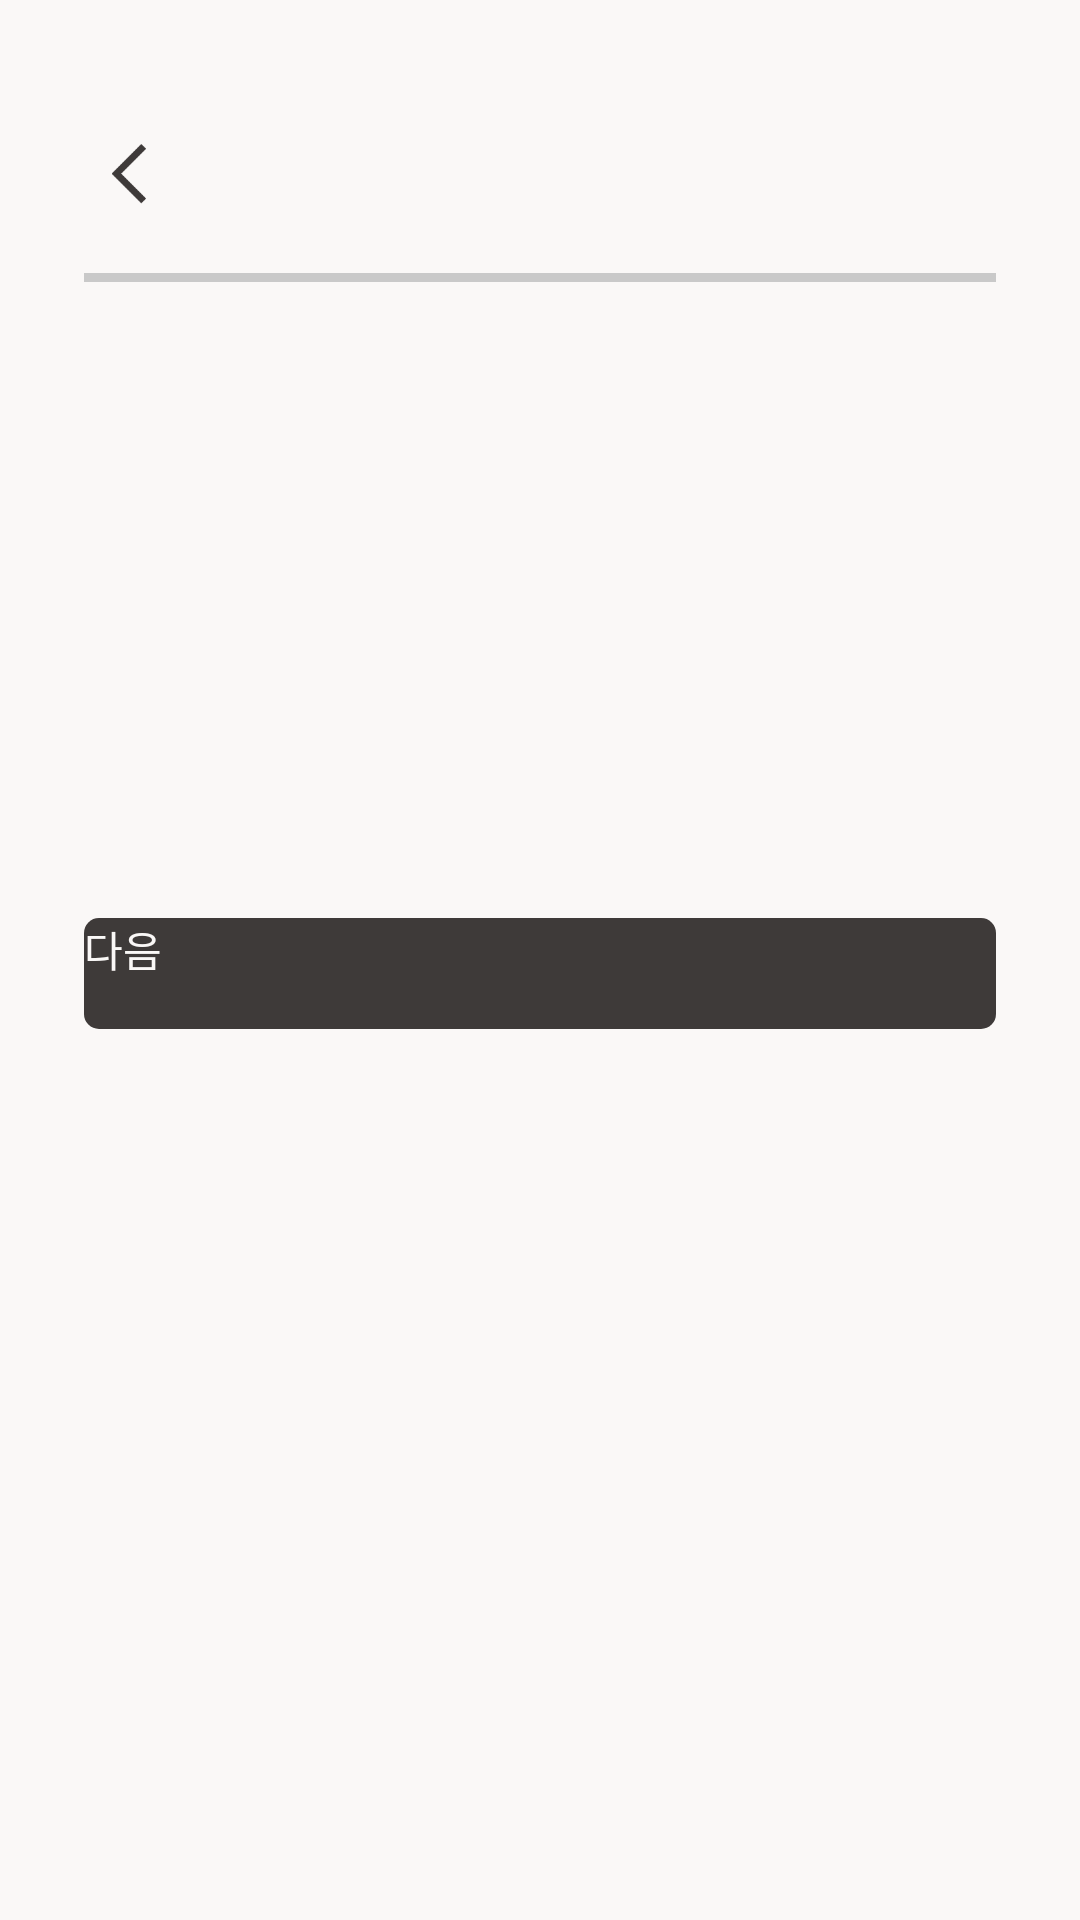

Icons on this 1080×1920 Android screen, each with its box as bbox=(x1, y1, x2, y2):
back: bbox=(112, 144, 146, 204)
